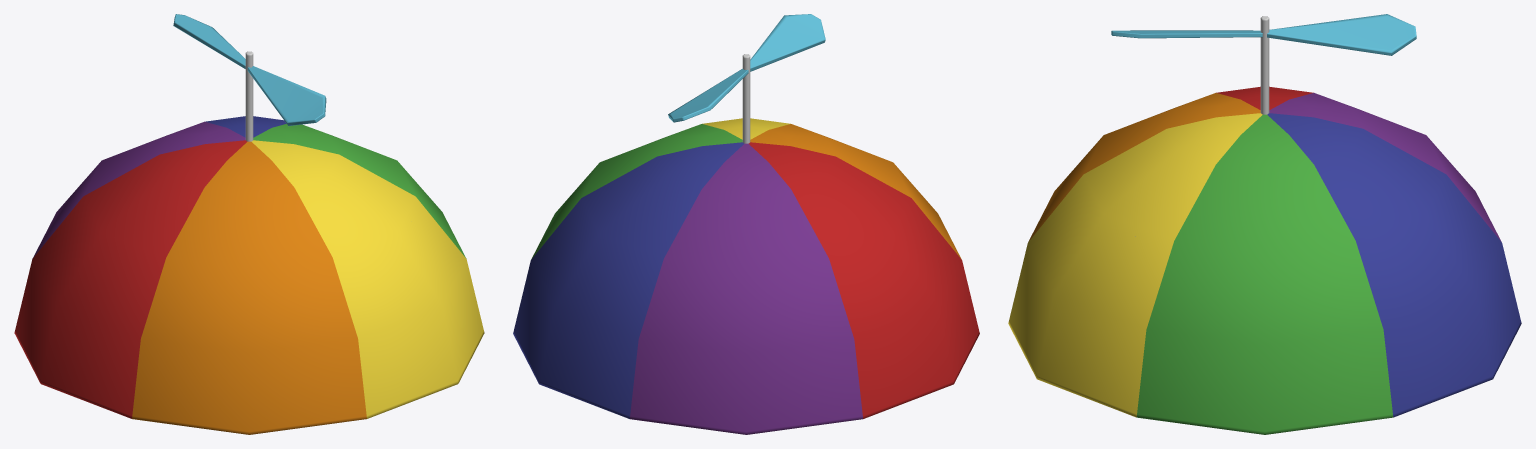
Rendered from Propeller hat.fbx.
The picture shows the model from 3 angles, left to right: view 1: azimuth 30°, elevation 25°; view 2: azimuth 150°, elevation 25°; view 3: azimuth 270°, elevation 25°; orthographic projection. The views are drawn at different scales.
Parts seen in each view (by area): view 1: Hat; view 2: Hat; view 3: Hat.
Boxes of the visible parts, left/top/right/bottom form: Hat: left=14, top=14, right=484, bottom=434; Hat: left=513, top=14, right=979, bottom=434; Hat: left=1008, top=14, right=1521, bottom=434.
Size of the model in its own units: 43.26 by 27.86 by 42.16.
1 material, 1 textured.
